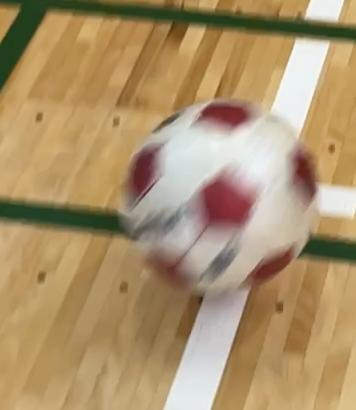Sports-Ball: (120, 95, 312, 291)
